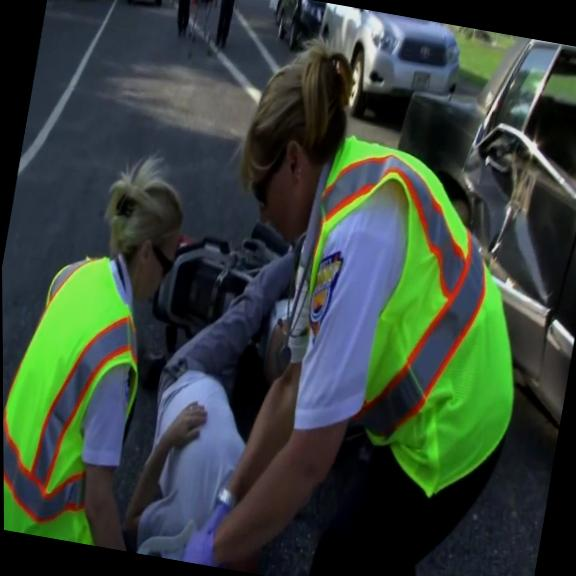safety_vest: (269, 127, 558, 516), (2, 242, 163, 549)
